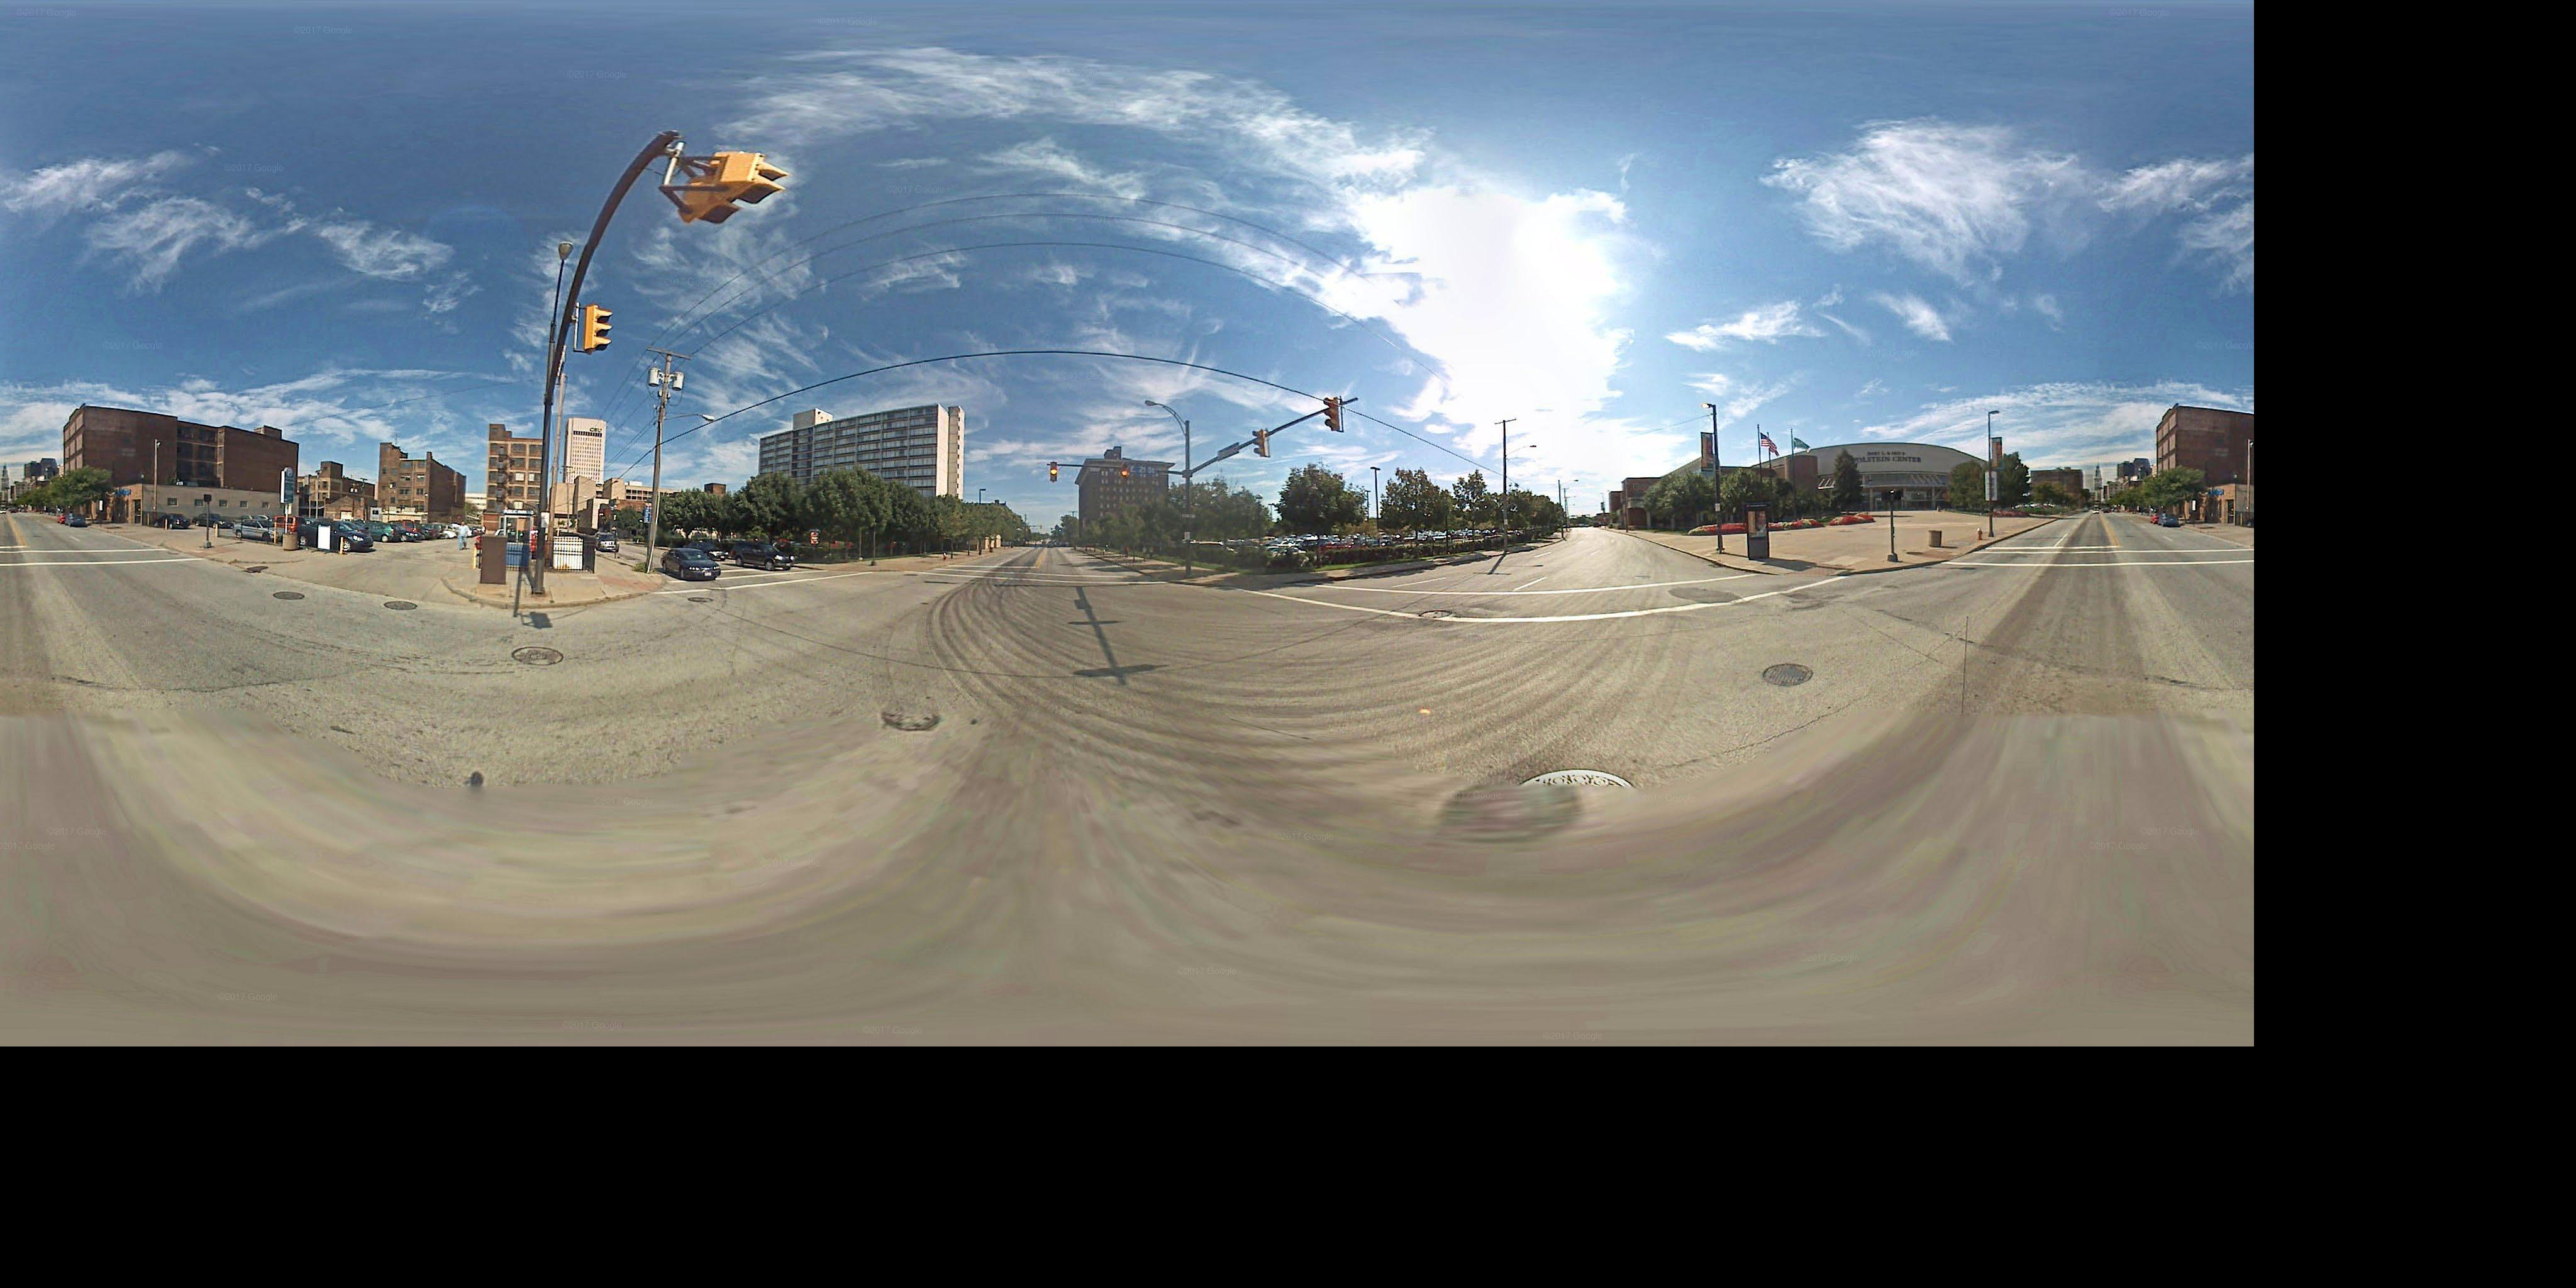Curb Ramp: (1771, 552, 1837, 585), (628, 570, 669, 601), (1917, 544, 1966, 568), (179, 542, 218, 567)
